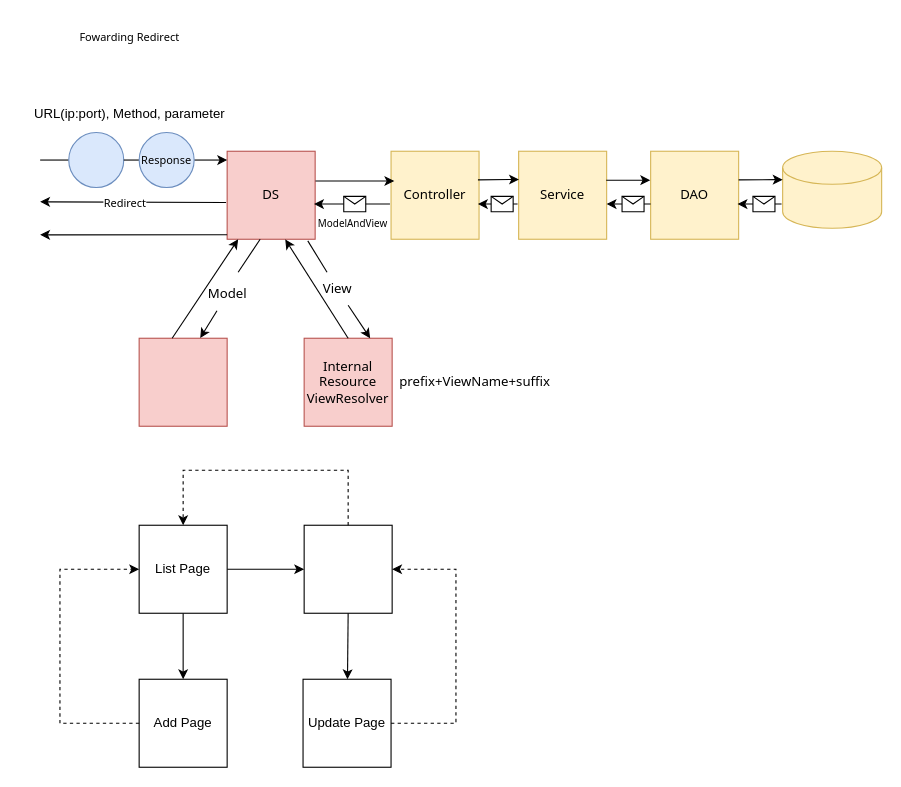
Image size: 901x787. Some labels were removed from this diagram. Each missing label, with the centre of its shape:
DB: pixel 832 189
Detail Page: pixel 347 568
JSP: pixel 182 381
Request: pixel 96 159
